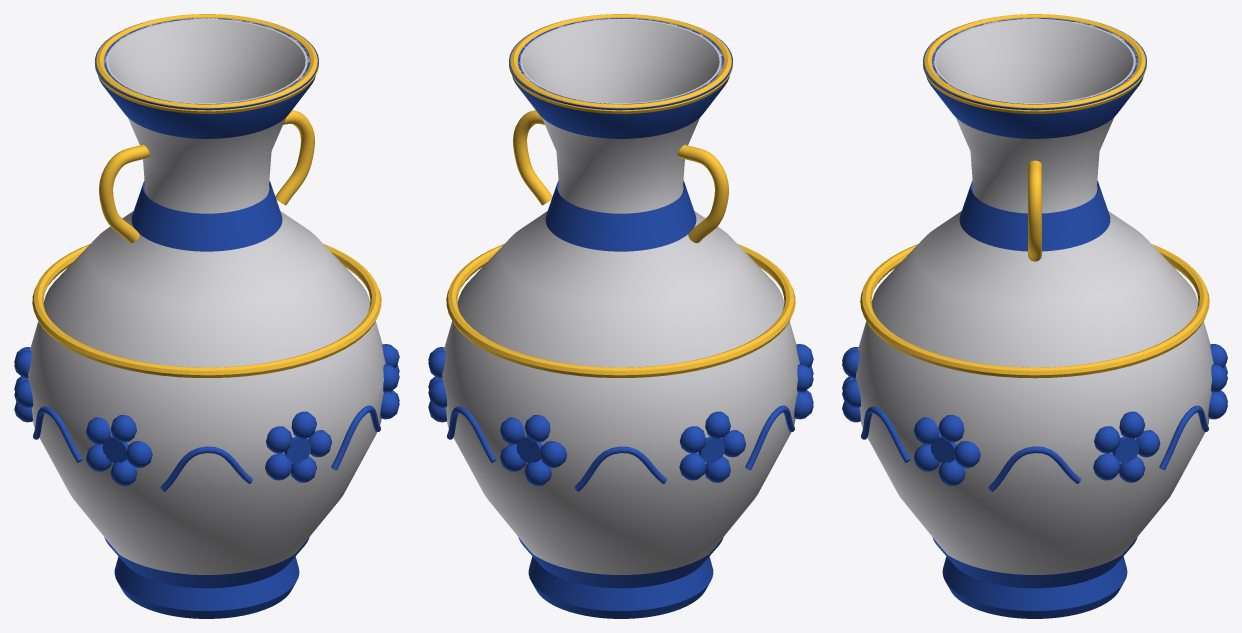
Rendered from AntiqueVase.fbx.
3 renders of one model, left to right at view 1: azimuth 30°, elevation 25°; view 2: azimuth 150°, elevation 25°; view 3: azimuth 270°, elevation 25°, orthographic.
Parts seen in each view (by area): view 1: Porcelain, Blue, Gold; view 2: Porcelain, Blue, Gold; view 3: Porcelain, Blue, Gold.
Boxes of the visible parts, left/top/right/bottom form: Porcelain: left=28, top=18, right=385, bottom=574; Blue: left=14, top=18, right=399, bottom=618; Gold: left=32, top=14, right=381, bottom=377; Porcelain: left=442, top=18, right=799, bottom=574; Blue: left=428, top=18, right=813, bottom=618; Gold: left=446, top=14, right=795, bottom=377; Porcelain: left=856, top=18, right=1213, bottom=574; Blue: left=842, top=18, right=1227, bottom=618; Gold: left=860, top=14, right=1209, bottom=378.
Bounding box in the file's own units: 131 × 205 × 137.
